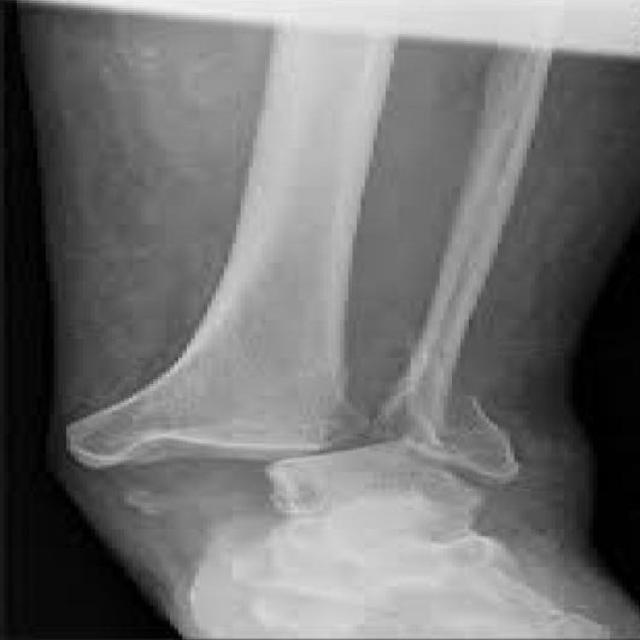Fracture: (56, 351, 550, 568)
